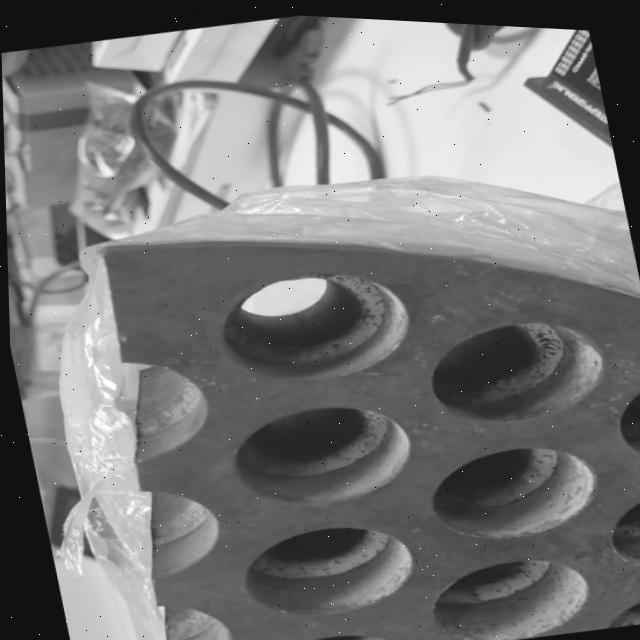Hole: (206, 250, 416, 392), (220, 384, 418, 518), (415, 299, 611, 431), (231, 505, 418, 627), (418, 425, 603, 548), (420, 538, 594, 640), (243, 613, 410, 640), (594, 474, 640, 570), (604, 360, 640, 459), (587, 573, 640, 625)
